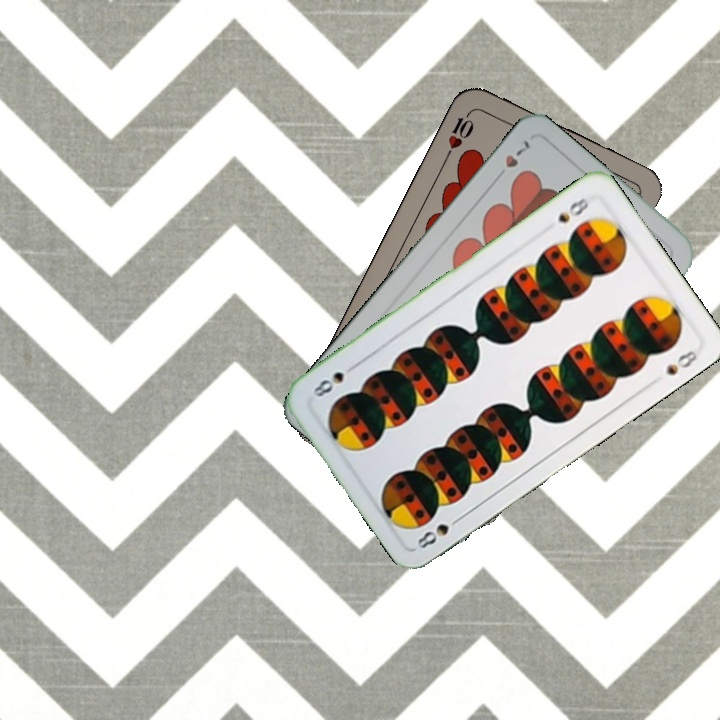H10: (442, 106, 477, 161)
H7: (490, 136, 532, 184)
S8: (412, 511, 466, 551), (553, 193, 591, 226)
